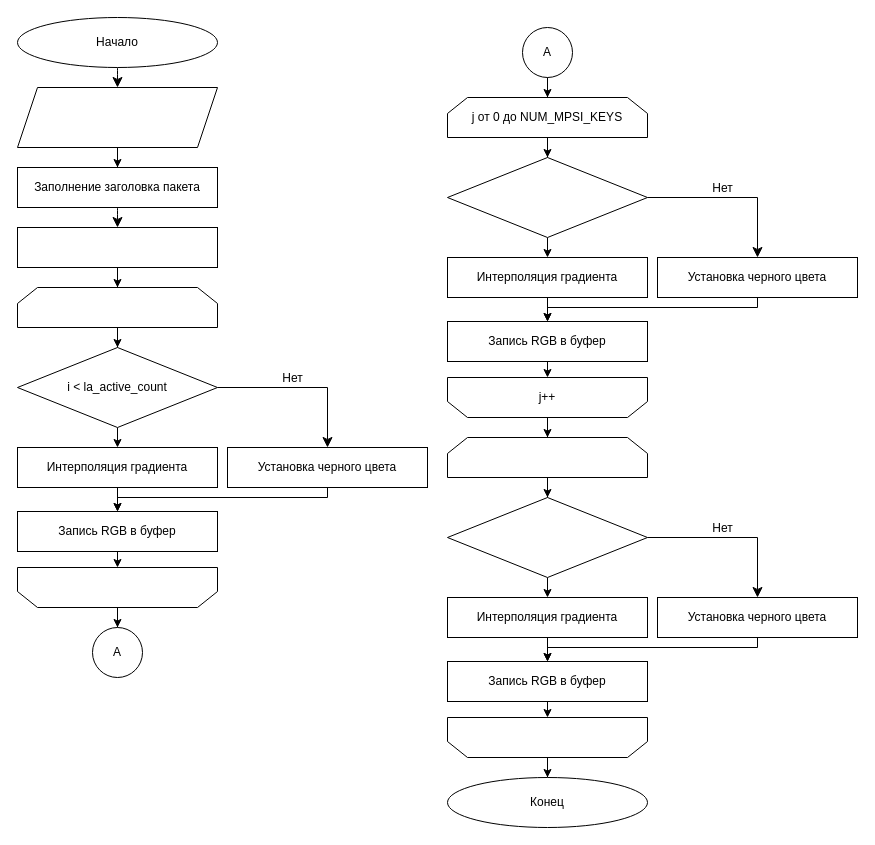
Image size: 875x845. Some labels were removed from this diagram. Here are the shapes that lost their labels. From the top down, the centre of each, then its label:
At (117,117): "Вход: буфер, la%, mpsi%, dp%".
At (547,197): "j < mpsi_active_count".
At (117,247): "Расчёт кол-ва активных клавиш".
At (117,307): "i от 0 до NUM_LA_KEYS".
At (547,457): "k от 0 до NUM_DP_KEYS".
At (547,537): "k < dp_active_count".
At (117,587): "i++".
At (547,737): "k++".
